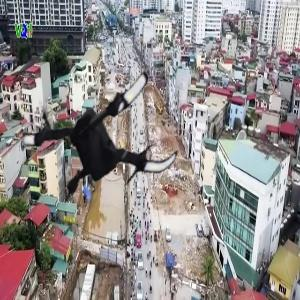drone: (9, 55, 182, 228)
